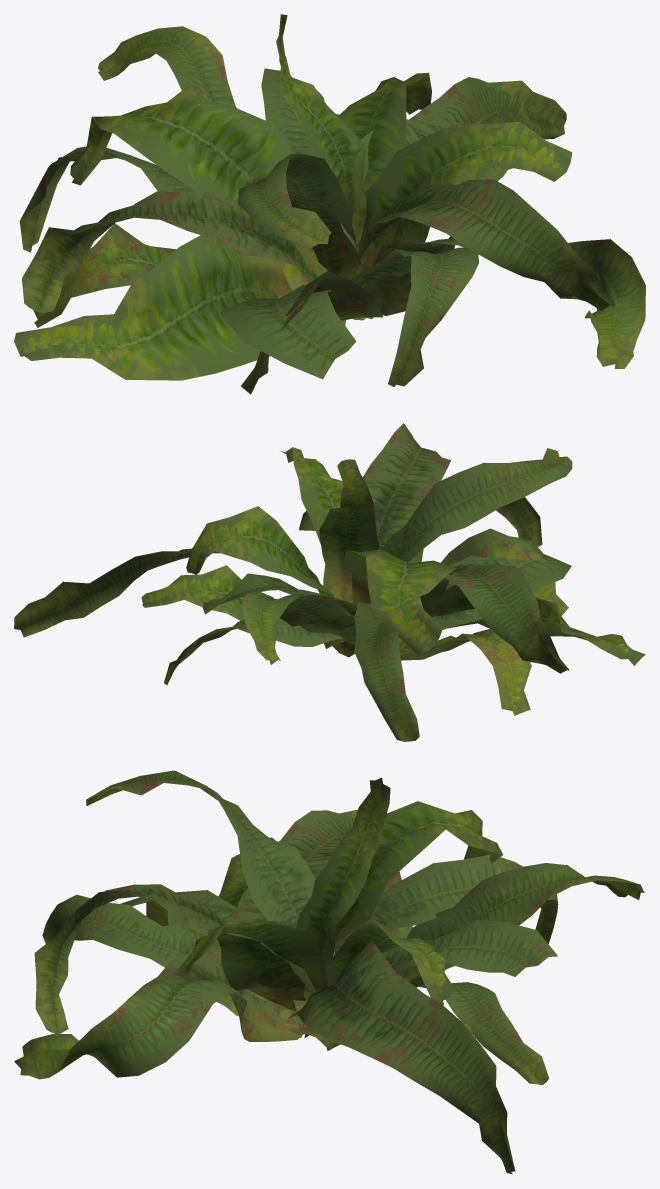
The model's file is fern_2.glb.
3 views of the same model, one above another, from view 1: azimuth 30°, elevation 25°; view 2: azimuth 150°, elevation 25°; view 3: azimuth 270°, elevation 25° (orthographic). The views are drawn at different scales.
Parts seen in each view (by area): view 1: fern_02_c; view 2: fern_02_c; view 3: fern_02_c.
Boxes of the visible parts, box(x1,y1,x2,y2) form: fern_02_c: box(14, 14, 645, 394); fern_02_c: box(14, 423, 645, 741); fern_02_c: box(14, 770, 645, 1174).
Size of the model in its own units: 0.8743 by 0.349 by 0.7652.
Materials: 1 (1 with a texture image).
